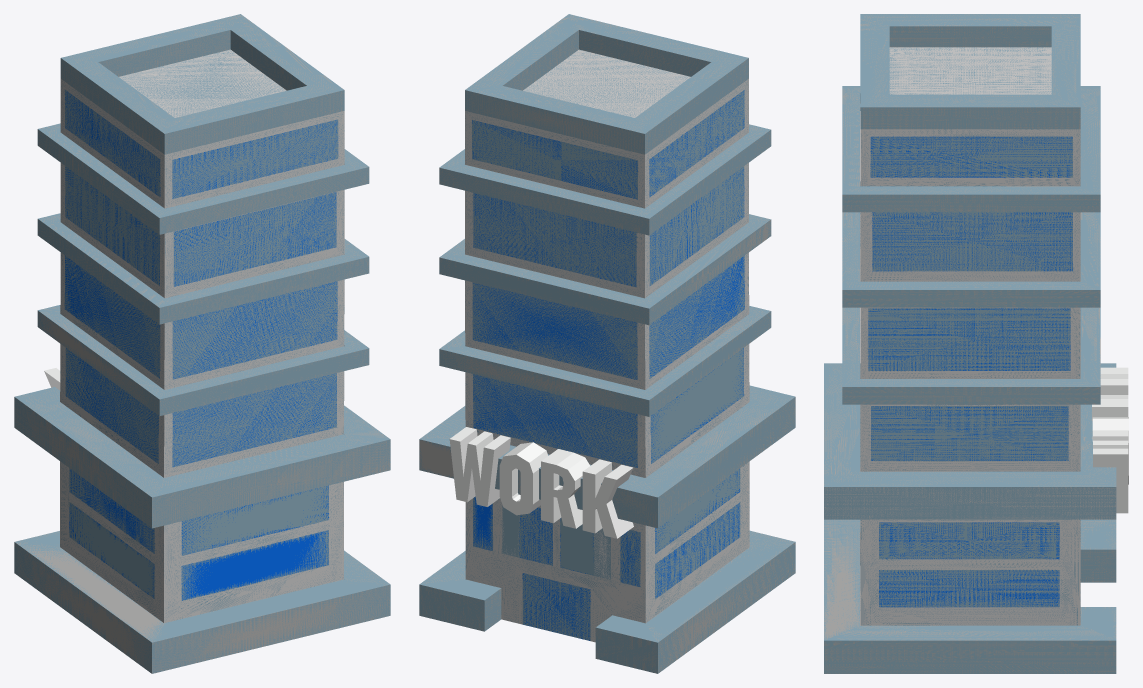
The model's file is WorkSkyscraper.fbx.
3 views of the same model, side by side, from view 1: azimuth 30°, elevation 25°; view 2: azimuth 150°, elevation 25°; view 3: azimuth 270°, elevation 25° (orthographic). The views are drawn at different scales.
Visible parts, largest first — view 1: Model; view 2: Model, Group1; view 3: Model, Group1.
Part boxes in pixels (box(x1,y1,x2,y2)): Model: box(14, 14, 390, 673); Model: box(419, 14, 795, 673); Group1: box(449, 427, 633, 538); Model: box(824, 14, 1116, 673); Group1: box(1092, 367, 1128, 513).
Size of the model in its own units: 109278 by 227730 by 113970.
